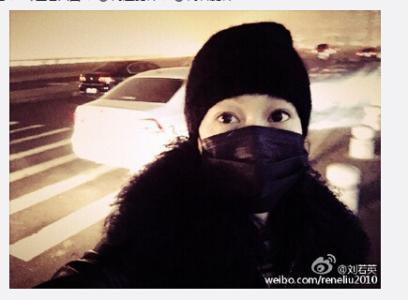yes_mask: (182, 18, 312, 180)
